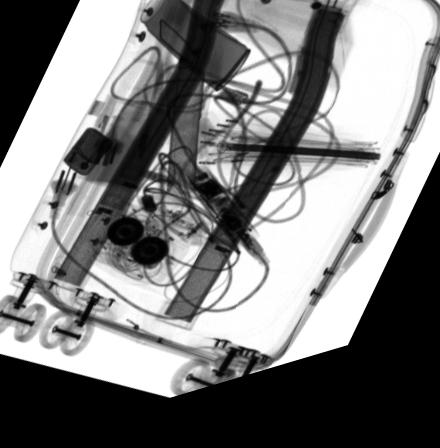Lighter: (62, 132, 113, 180)
